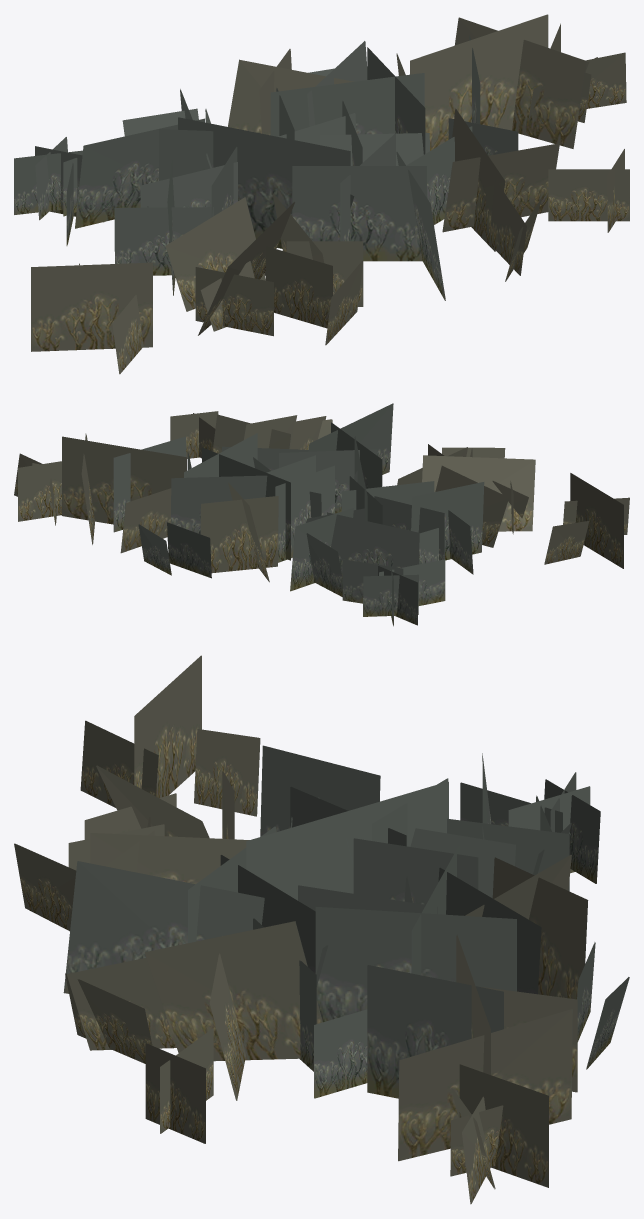
The model's file is DN_grass07b.FBX.
3 views of the same model, one above another, from view 1: azimuth 30°, elevation 25°; view 2: azimuth 150°, elevation 25°; view 3: azimuth 270°, elevation 25° (orthographic). The views are drawn at different scales.
Visible parts, largest first — view 1: DN_grass07b; view 2: DN_grass07b; view 3: DN_grass07b.
Boxes of the visible parts, x1,y1,x2,y2 form: DN_grass07b: (14,14,629,374); DN_grass07b: (14,403,629,626); DN_grass07b: (14,655,629,1204).
Size of the model in its own units: 267 by 40.68 by 157.
